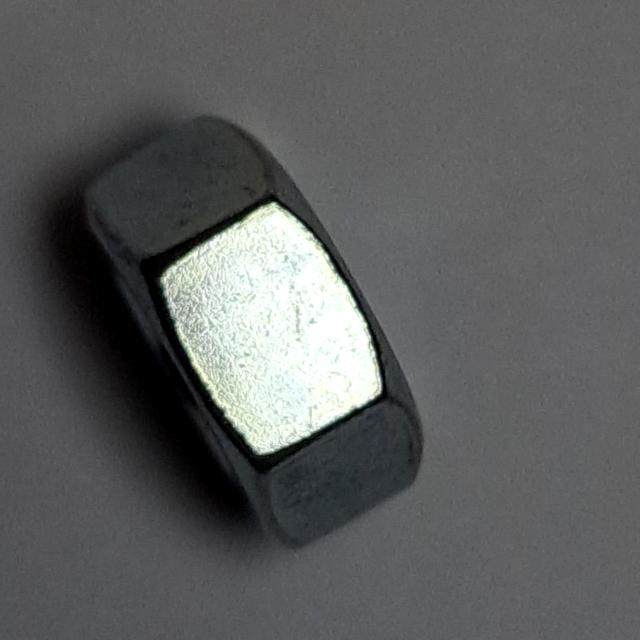Side_Excellent: (72, 100, 440, 564)
